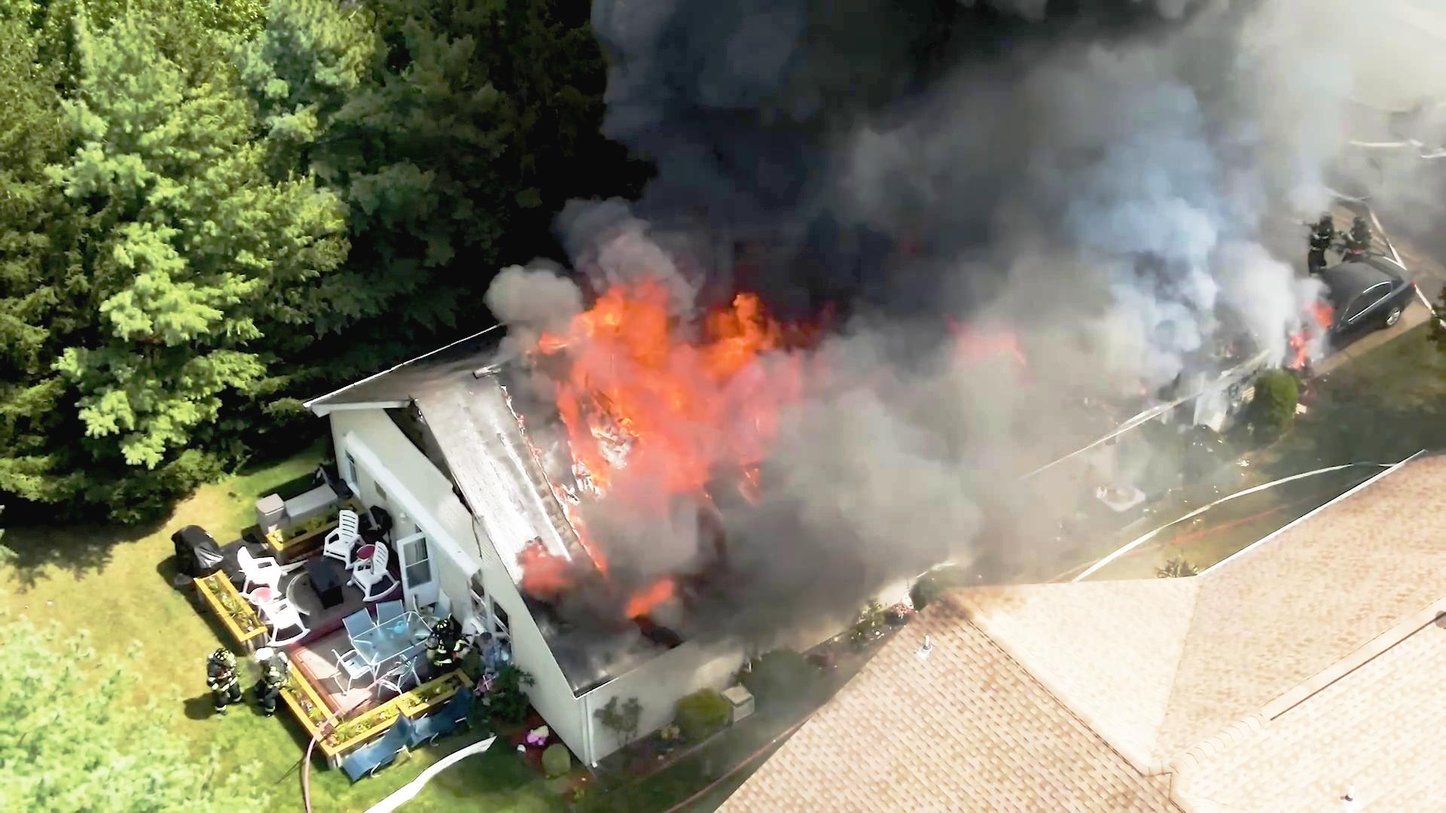fire: (575, 296, 755, 470)
smoke: (951, 46, 1263, 265), (781, 341, 996, 529)
